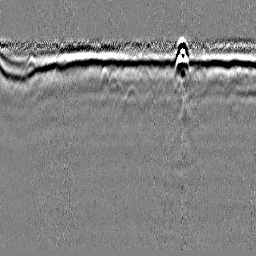cavity: (121, 83, 142, 115)
